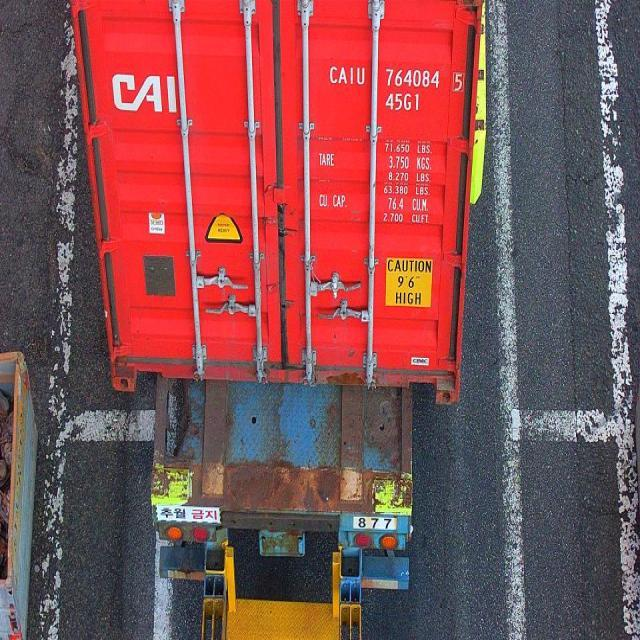ISO: (386, 92, 424, 112)
container_number: (328, 67, 466, 90)
